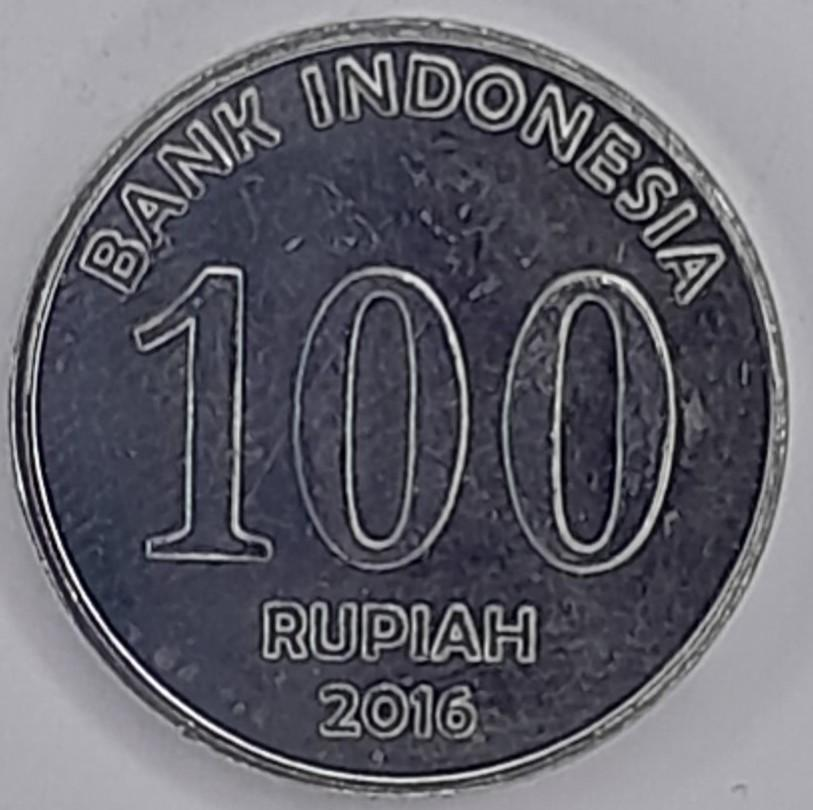coin_100_e2016: (4, 11, 795, 798)
